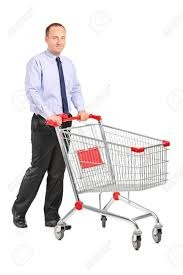with_basket: (45, 113, 168, 249)
without_mask: (45, 22, 68, 52)
